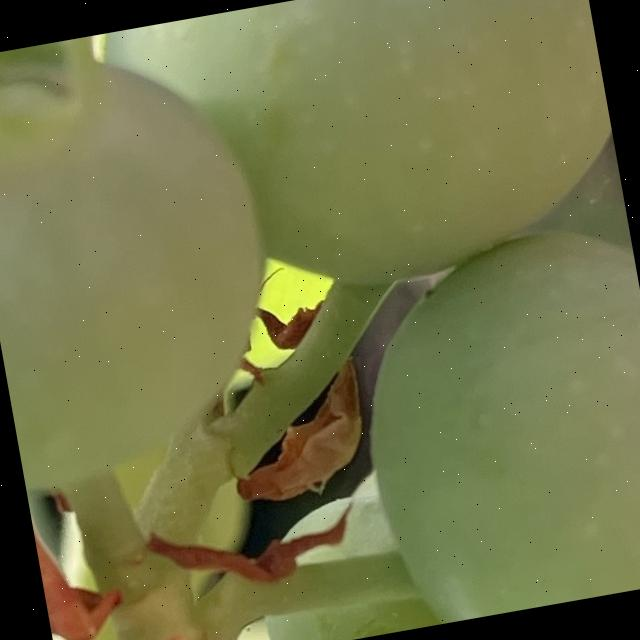Blueberries: (98, 0, 632, 329), (0, 9, 318, 514), (331, 217, 640, 632)
